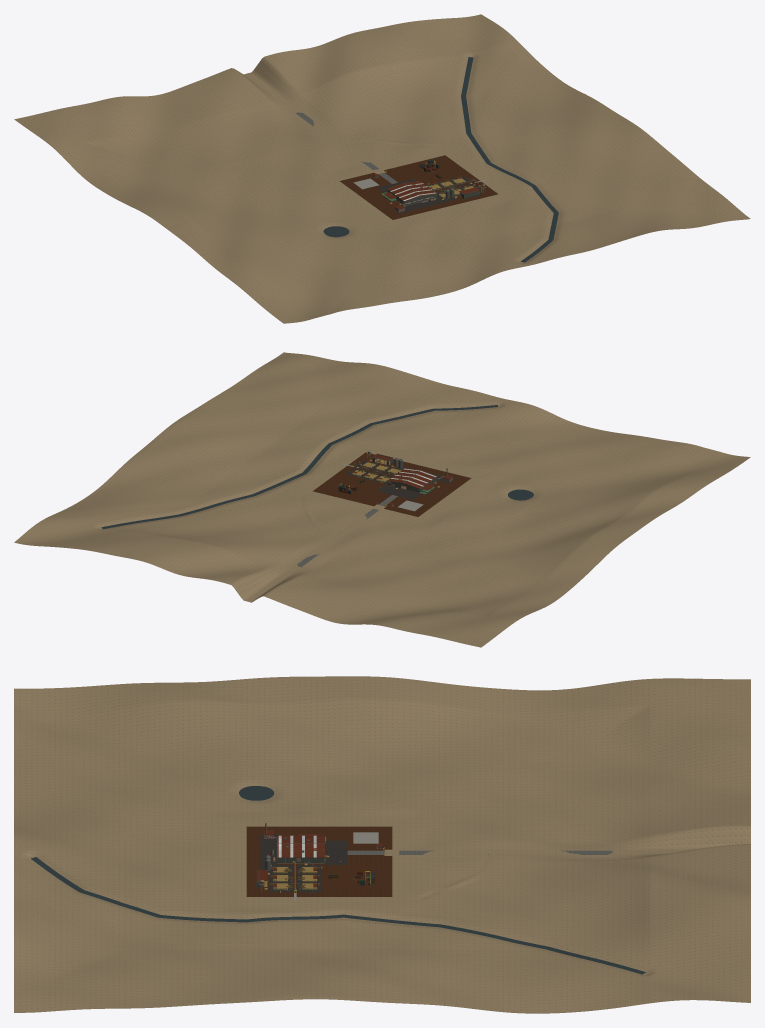
The model's file is site.glb.
The picture shows the model from 3 angles, top to bottom: view 1: azimuth 30°, elevation 25°; view 2: azimuth 150°, elevation 25°; view 3: azimuth 270°, elevation 25°; orthographic projection. The views are drawn at different scales.
Parts seen in each view (by area): view 1: terrain, arch-ground, creek, arch-roof, arch-apron; view 2: terrain, arch-ground, creek, arch-apron, arch-roof; view 3: terrain, arch-ground, creek, arch-apron, arch-roof, arch-road.
Part boxes in pixels (bbox=[...]): terrain: bbox=[14, 14, 750, 323]; arch-ground: bbox=[340, 155, 497, 219]; creek: bbox=[461, 57, 558, 262]; arch-roof: bbox=[373, 173, 479, 209]; arch-apron: bbox=[377, 176, 482, 213]; terrain: bbox=[14, 352, 750, 647]; arch-ground: bbox=[313, 452, 471, 516]; creek: bbox=[101, 405, 497, 529]; arch-apron: bbox=[346, 460, 454, 499]; arch-roof: bbox=[351, 454, 452, 504]; terrain: bbox=[14, 676, 750, 1013]; arch-ground: bbox=[246, 826, 392, 896]; creek: bbox=[31, 857, 645, 974]; arch-apron: bbox=[260, 834, 347, 892]; arch-roof: bbox=[256, 830, 381, 887]; arch-road: bbox=[347, 850, 612, 854].
Bounding box in the file's own units: 760 × 32.1 × 760.
Materials: 54 (38 with a texture image).
